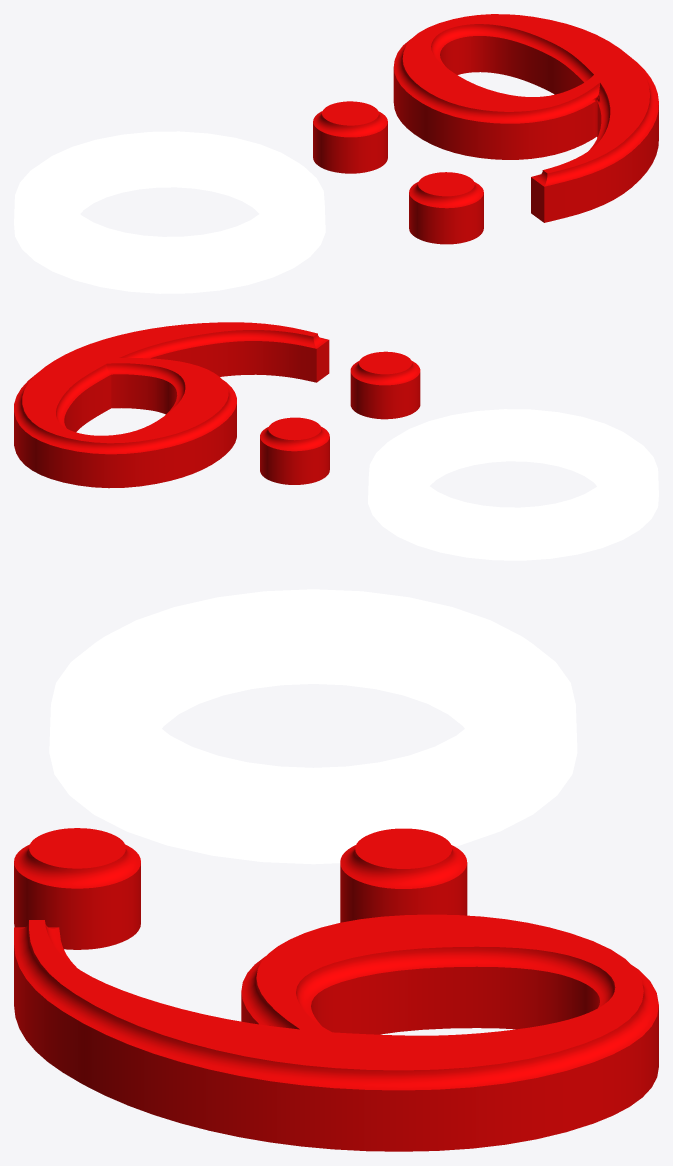
3 views of the same model, one above another, from view 1: azimuth 30°, elevation 25°; view 2: azimuth 150°, elevation 25°; view 3: azimuth 270°, elevation 25° (orthographic). The views are drawn at different scales.
Visible parts, largest first — view 1: TextPlus001, Torus001; view 2: TextPlus001, Torus001; view 3: TextPlus001, Torus001.
Boxes of the visible parts, x1,y1,x2,y2 form: TextPlus001: [313, 14, 658, 244]; Torus001: [14, 131, 325, 293]; TextPlus001: [14, 322, 420, 488]; Torus001: [368, 409, 658, 560]; TextPlus001: [14, 828, 658, 1151]; Torus001: [49, 589, 577, 864].
Bounding box in the file's own units: 0.5706 × 0.039 × 0.3045.
